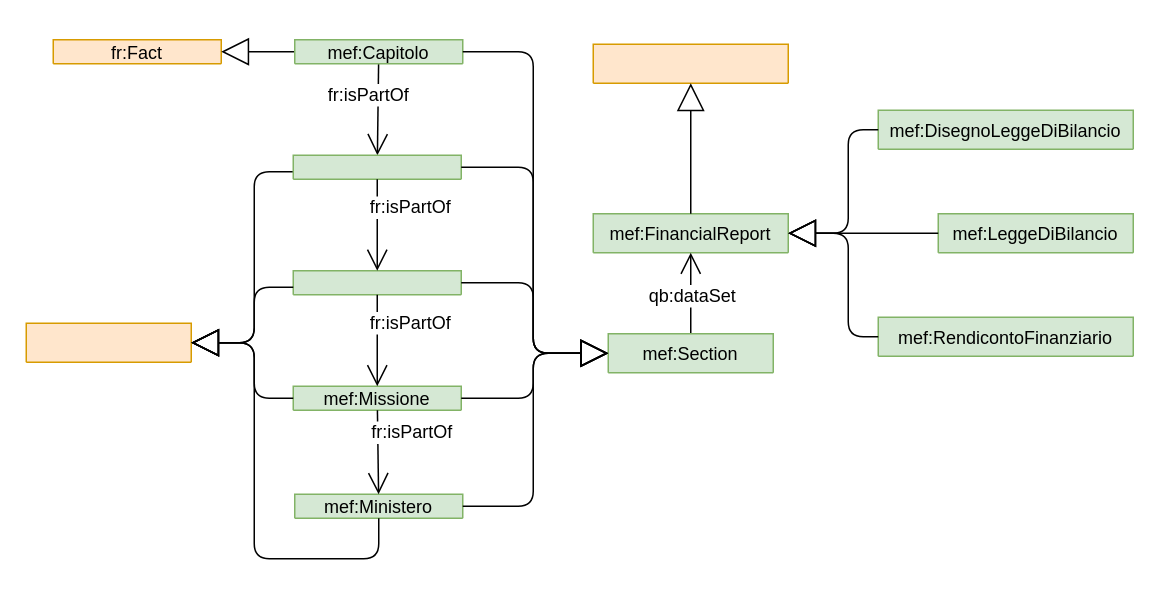
This 1160x612 diagram has some shape labels left out. The shapes that lost their labels are listed below. From the top down, each one's box as (x1, y1, x2, y2) in pixels, then its label:
(592, 43, 788, 83): fr:FinancialReport
(292, 154, 461, 179): mef:Azione
(292, 269, 461, 295): mef:Programma
(25, 322, 191, 362): fr:Component
